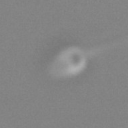normal: (84, 29, 128, 65)
